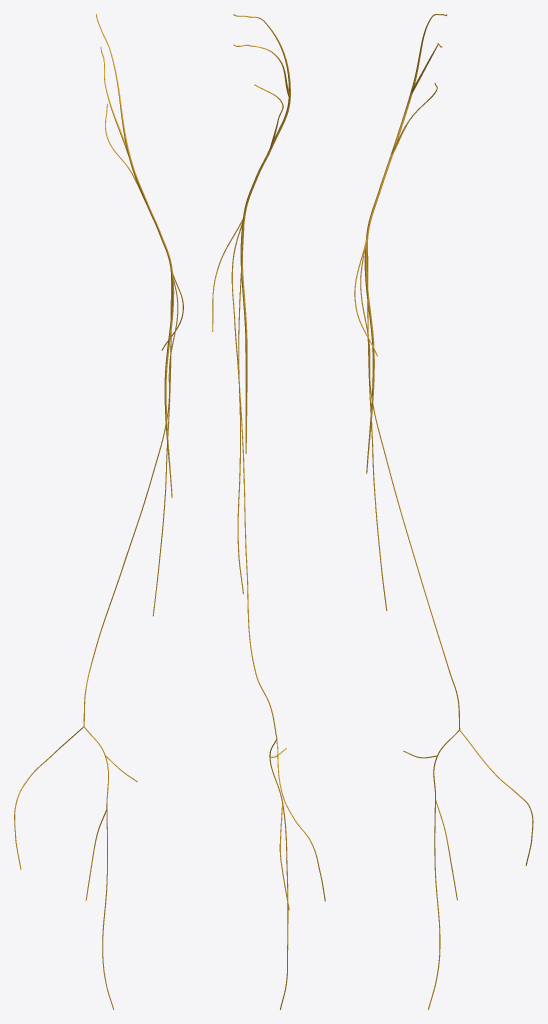
Rendered from nervoso-femoral-nerve-r.glb.
The picture shows the model from 3 angles, left to right: view 1: azimuth 90°, elevation 25°; view 2: azimuth 210°, elevation 25°; view 3: azimuth 270°, elevation 25°; orthographic projection. The views are drawn at different scales.
Visible parts, largest first — view 1: Saphenous nerve.r, Femoral nerve.r, Anterior cutaneous branches of femoral nerve.r; view 2: Saphenous nerve.r, Femoral nerve.r, Anterior cutaneous branches of femoral nerve.r; view 3: Saphenous nerve.r, Femoral nerve.r, Anterior cutaneous branches of femoral nerve.r.
Boxes of the visible parts, x1,y1,x2,y2 form: Saphenous nerve.r: (14,277,178,1009); Femoral nerve.r: (96,14,174,497); Anterior cutaneous branches of femoral nerve.r: (152,275,171,616); Saphenous nerve.r: (231,221,325,1009); Femoral nerve.r: (233,14,290,453); Anterior cutaneous branches of femoral nerve.r: (237,222,244,594); Saphenous nerve.r: (360,241,533,1009); Femoral nerve.r: (364,14,447,473); Anterior cutaneous branches of femoral nerve.r: (367,242,387,610).
Size of the model in its own units: 0.0773 by 0.9968 by 0.1581.
